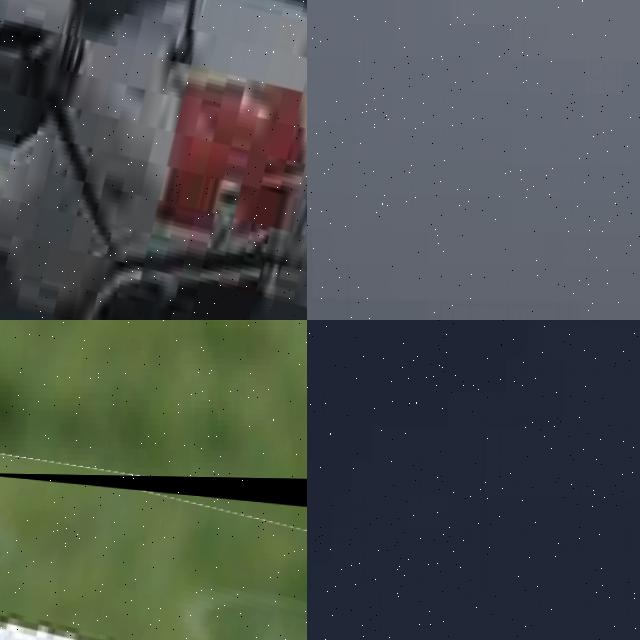0: (0, 0, 307, 320)
drone: (0, 472, 307, 640)
